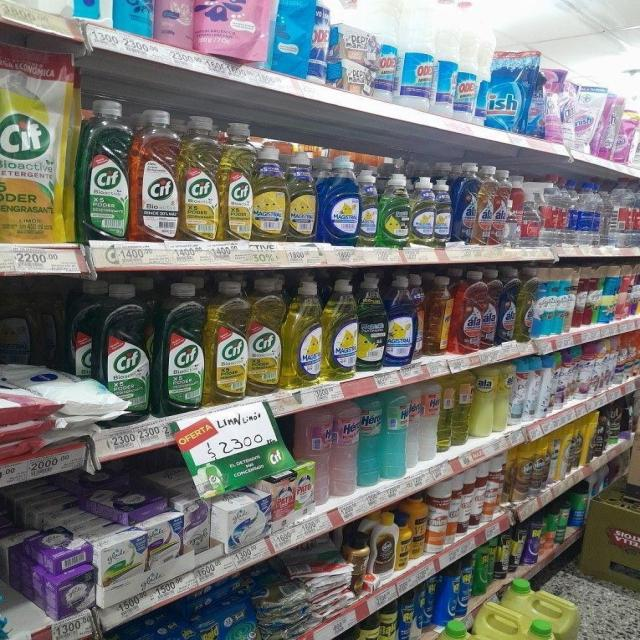ala_conc_amarillo: (476, 164, 493, 246), (516, 268, 534, 342)
ala_conc_azul: (453, 162, 476, 245), (498, 268, 516, 344)
ala_conc_rojo: (452, 270, 482, 353), (492, 166, 509, 246), (482, 269, 498, 348)
ala_crem_amarillo: (472, 366, 494, 438), (495, 363, 510, 432)
cif_conc_bot_amarilla: (206, 278, 247, 403), (180, 115, 219, 241), (248, 276, 282, 395), (220, 122, 252, 242)
cif_conc_botella_roja: (132, 108, 178, 243)
cif_conc_botella_verde: (76, 99, 130, 241), (102, 282, 152, 418), (156, 282, 205, 414), (72, 282, 99, 382)
cif_conc_sachet_amarillo: (0, 46, 68, 243)
heroe: (331, 399, 357, 497), (358, 393, 380, 487), (422, 380, 439, 461), (407, 383, 420, 470), (439, 372, 453, 452)
magistral_con_amarillo: (285, 278, 322, 387), (323, 277, 358, 381), (410, 175, 435, 246), (435, 174, 452, 246)
magistral_con_azul: (319, 154, 359, 245), (386, 274, 416, 368), (360, 168, 378, 247)
